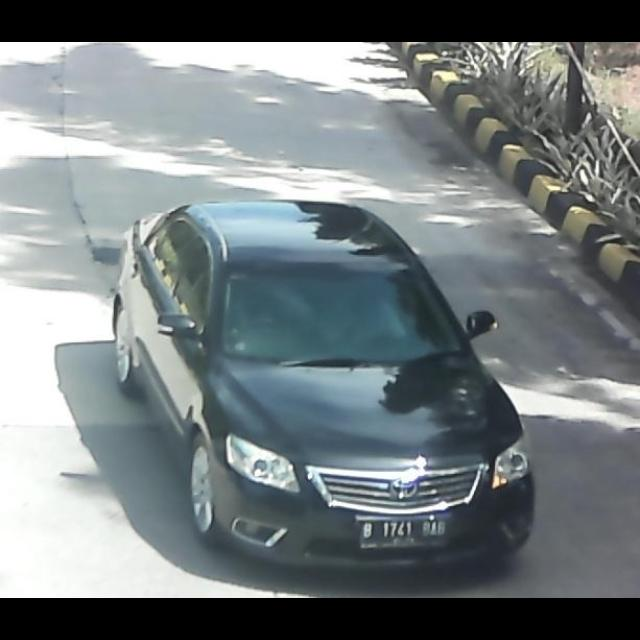plate: (354, 513, 454, 547)
